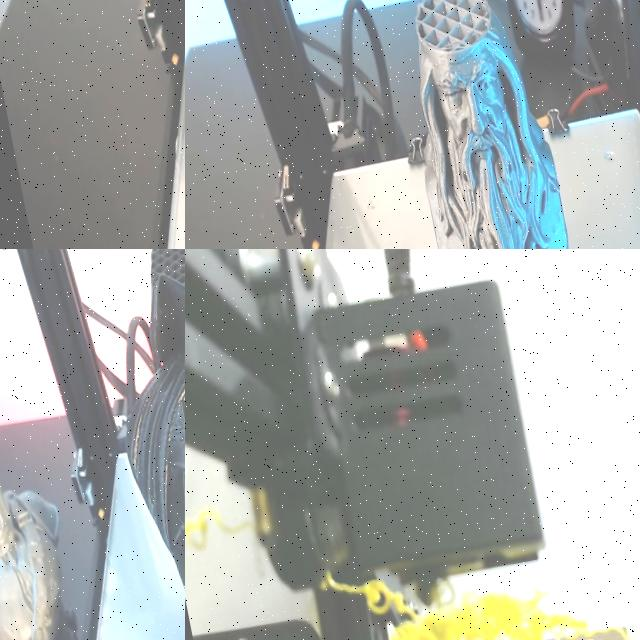spaghetti: (319, 572, 630, 640), (185, 509, 245, 547)
